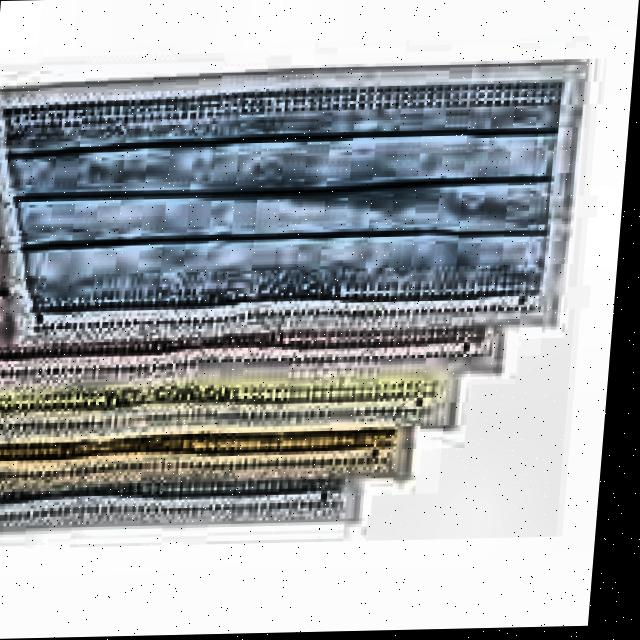trash: (0, 39, 597, 556)
